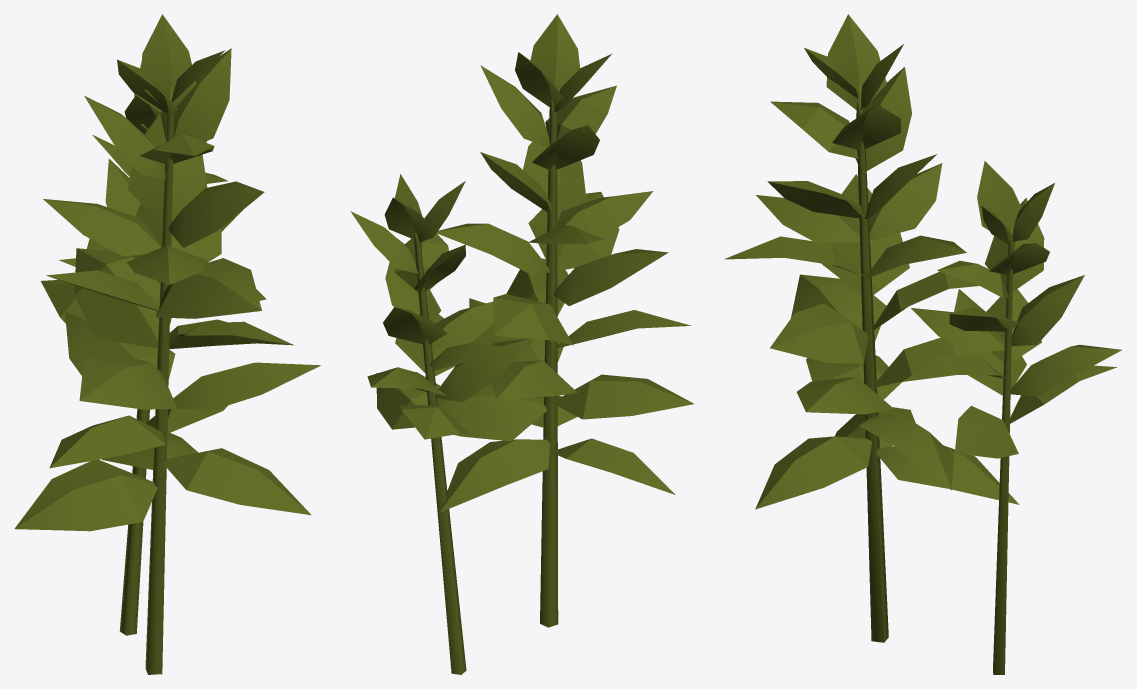
Rendered from Plant_03.fbx.
The picture shows the model from 3 angles, left to right: view 1: azimuth 30°, elevation 25°; view 2: azimuth 150°, elevation 25°; view 3: azimuth 270°, elevation 25°; orthographic projection. The views are drawn at different scales.
Visible parts, largest first — view 1: polySurface45; view 2: polySurface45; view 3: polySurface45.
Part boxes in pixels (<box>): polySurface45: <box>14,14,320,674</box>; polySurface45: <box>350,14,693,674</box>; polySurface45: <box>724,14,1121,674</box>.
Size of the model in its own units: 116 by 248 by 145.
